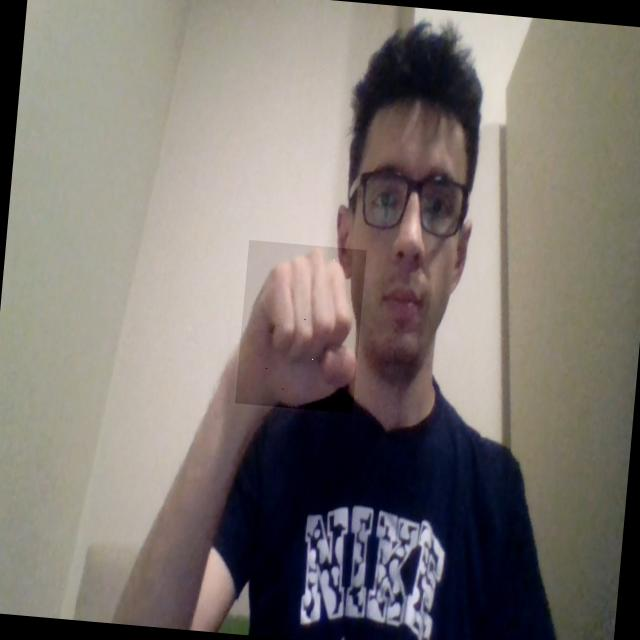yes: (235, 240, 366, 413)
